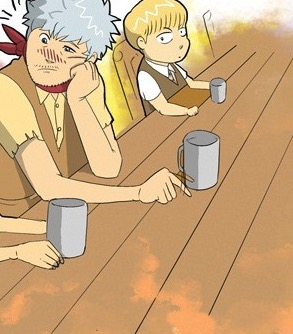beer: (176, 128, 222, 192)
cup: (173, 127, 224, 192), (45, 195, 89, 261), (209, 76, 231, 106)
